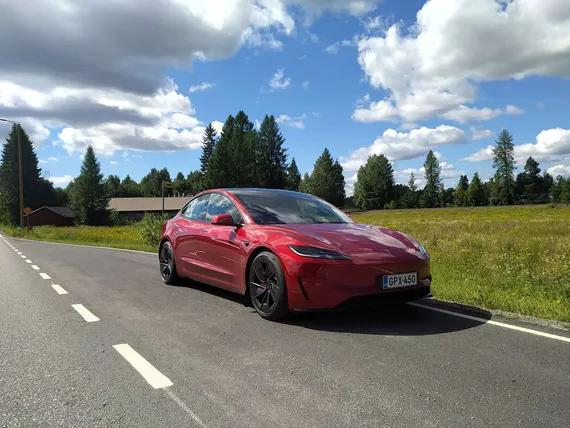car: (150, 182, 444, 324)
traffic sign: (157, 178, 176, 222), (21, 204, 35, 240)
